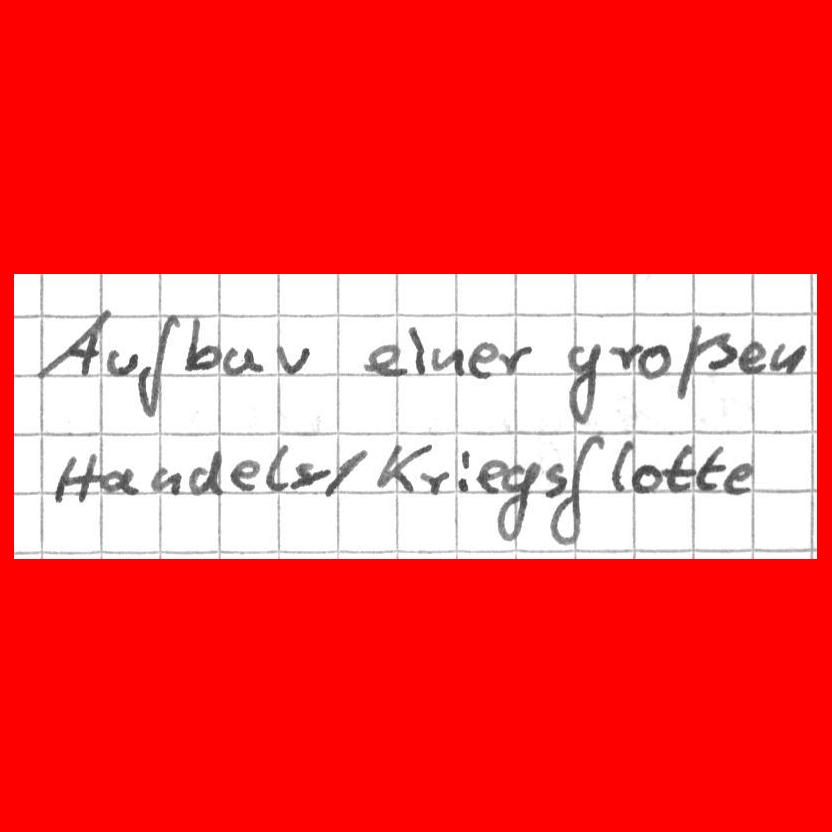Char: (554, 431, 602, 549), (37, 306, 109, 381), (674, 320, 736, 400), (137, 309, 181, 420), (563, 337, 604, 429), (494, 460, 539, 539), (378, 441, 431, 494), (323, 444, 371, 499), (52, 449, 98, 504), (184, 313, 222, 373), (661, 441, 698, 498), (186, 447, 228, 496), (722, 458, 764, 498), (766, 338, 809, 377), (262, 441, 294, 493), (693, 443, 726, 493), (361, 340, 407, 375), (96, 461, 142, 494), (465, 337, 500, 379), (495, 341, 534, 378), (286, 459, 329, 492), (430, 343, 468, 380), (405, 322, 431, 376), (147, 462, 186, 498), (273, 340, 313, 375), (221, 342, 260, 377), (609, 437, 632, 496), (224, 455, 261, 491), (472, 455, 506, 494), (638, 340, 672, 378), (539, 461, 571, 499), (606, 340, 641, 374), (102, 346, 139, 378), (739, 338, 769, 377), (632, 460, 662, 498), (416, 468, 452, 495), (456, 447, 470, 495)
